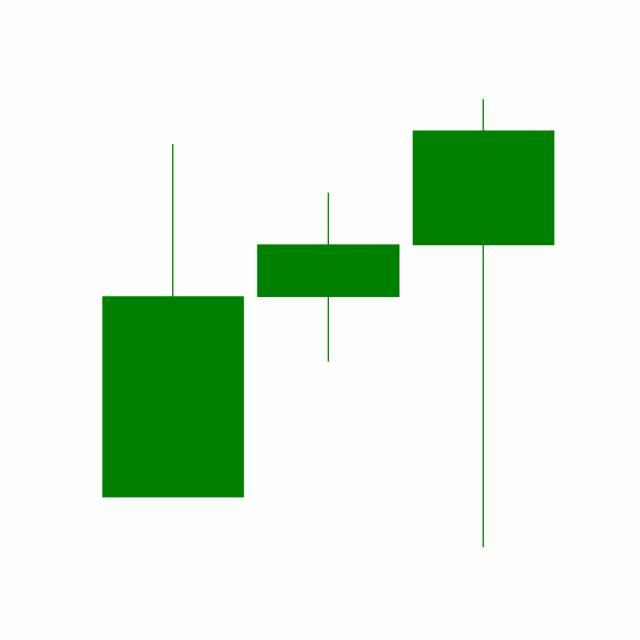Dragonfly Doji: (250, 190, 407, 364)
